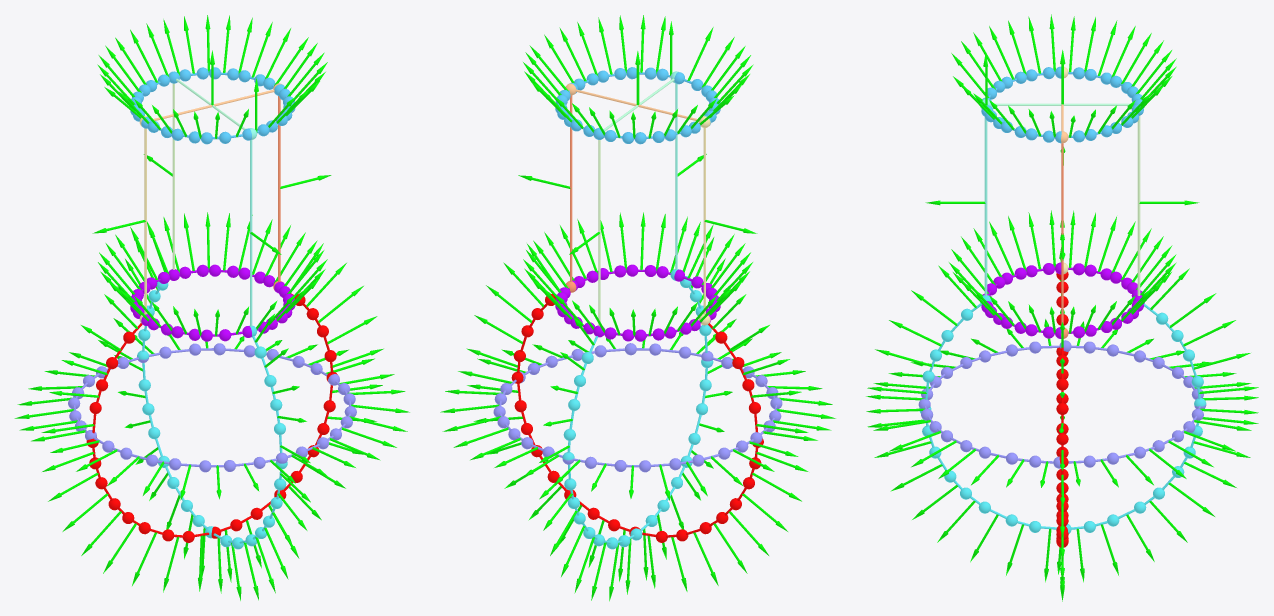
The model's file is flowrep_spherecylinder.gltf.
3 views of the same model, side by side, from view 1: azimuth 30°, elevation 25°; view 2: azimuth 150°, elevation 25°; view 3: azimuth 270°, elevation 25° (orthographic).
Size of the model in its own units: 0.6469 by 0.9663 by 0.6475.
